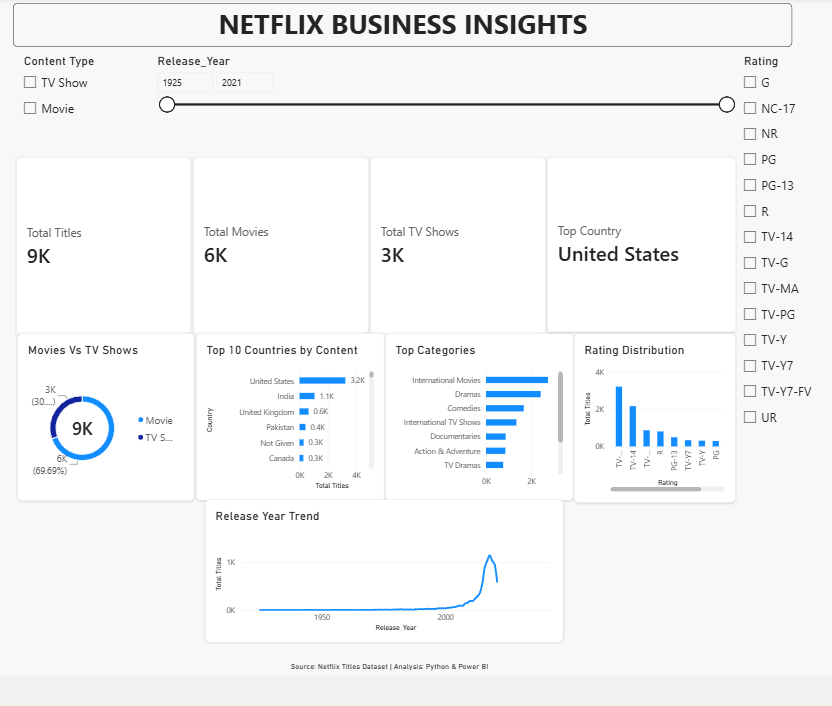

What the dashboard file says about the page in this screenshot:
{"tool":"powerbi","page":{"name":"Dashboard","canvas":[1920,1080],"ordinal":0},"visuals":[{"type":"cardVisual","fields":{"Data":["Netflix.Total Titles"]},"box":[306.1,255.1,278.8,281.8],"z":0},{"type":"cardVisual","fields":{"Data":["Netflix.Total Movies"]},"box":[586.9,255.1,280,280],"z":1000},{"type":"cardVisual","fields":{"Data":["Netflix.Total TV Shows"]},"box":[868.9,255.1,280,280],"z":2000},{"type":"donutChart","title":"Movies Vs TV Shows","fields":{"Category":["Netflix.Type"],"Y":["Netflix.Total Titles"]},"box":[308.2,534.7,281.6,267.3],"z":3000},{"type":"clusteredBarChart","title":"Top 10 Countries by Content","fields":{"Category":["Country Analysis.Country"],"Y":["Country Analysis.Country Content Count"]},"box":[590.8,535.6,300.5,266.5],"z":4000},{"type":"textbox","box":[11.3,130.4,578.3,93.5],"z":5000},{"type":"textbox","title":"NETFLIX BUSINESS INSIGHTS","box":[300,9.1,1239.4,69.7],"z":6000},{"type":"clusteredBarChart","title":"Top Categories","fields":{"Category":["Category Analysis.Category"],"Y":["Category Analysis.Category Content Count"]},"box":[892.4,535.6,300.5,266.5],"z":7000},{"type":"lineChart","title":"Release Year Trend","fields":{"Category":["Netflix.Release_Year"],"Y":["Netflix.Total Titles"]},"box":[606.1,800,569.7,227.3],"z":8000},{"type":"clusteredColumnChart","title":"Rating Distribution","fields":{"Category":["Netflix.Rating"],"Y":["Netflix.Total Titles"]},"box":[1193.9,533.3,257.6,269.7],"z":9000},{"type":"cardVisual","fields":{"Data":["Category Analysis.Top Country"]},"box":[1150.9,255.1,300.5,277.8],"z":10000},{"type":"slicer","fields":{"Values":["Netflix.Type"]},"box":[310,90.9,213.3,143.3],"z":11000},{"type":"slicer","fields":{"Values":["Netflix.Release_Year"]},"box":[523.3,90.9,930,143.3],"z":12000},{"type":"slicer","fields":{"Values":["Netflix.Rating"]},"box":[1454.5,90.9,300,986.7],"z":13000},{"type":"textbox","title":"Source: Netflix Titles Dataset | Analysis: Python & Power BI","box":[260.6,1042.4,1278.8,37],"z":13001}]}

Visuals, with their boxes on the page's 1920x1080 design canvas (x1, y1, x2, y2). These are canvas units, not pixel positions in the 832x706 screenshot, which may show the page scaled, cropped or inside an application window:
cardVisual - Netflix.Total Titles: [left=306, top=255, right=585, bottom=537]
cardVisual - Netflix.Total Movies: [left=587, top=255, right=867, bottom=535]
cardVisual - Netflix.Total TV Shows: [left=869, top=255, right=1149, bottom=535]
"Movies Vs TV Shows" donutChart: [left=308, top=535, right=590, bottom=802]
"Top 10 Countries by Content" clusteredBarChart: [left=591, top=536, right=891, bottom=802]
textbox: [left=11, top=130, right=590, bottom=224]
"NETFLIX BUSINESS INSIGHTS" textbox: [left=300, top=9, right=1539, bottom=79]
"Top Categories" clusteredBarChart: [left=892, top=536, right=1193, bottom=802]
"Release Year Trend" lineChart: [left=606, top=800, right=1176, bottom=1027]
"Rating Distribution" clusteredColumnChart: [left=1194, top=533, right=1452, bottom=803]
cardVisual - Category Analysis.Top Country: [left=1151, top=255, right=1451, bottom=533]
slicer - Netflix.Type: [left=310, top=91, right=523, bottom=234]
slicer - Netflix.Release_Year: [left=523, top=91, right=1453, bottom=234]
slicer - Netflix.Rating: [left=1454, top=91, right=1754, bottom=1078]
"Source: Netflix Titles Dataset | Analysis: Python & Power BI" textbox: [left=261, top=1042, right=1539, bottom=1079]
